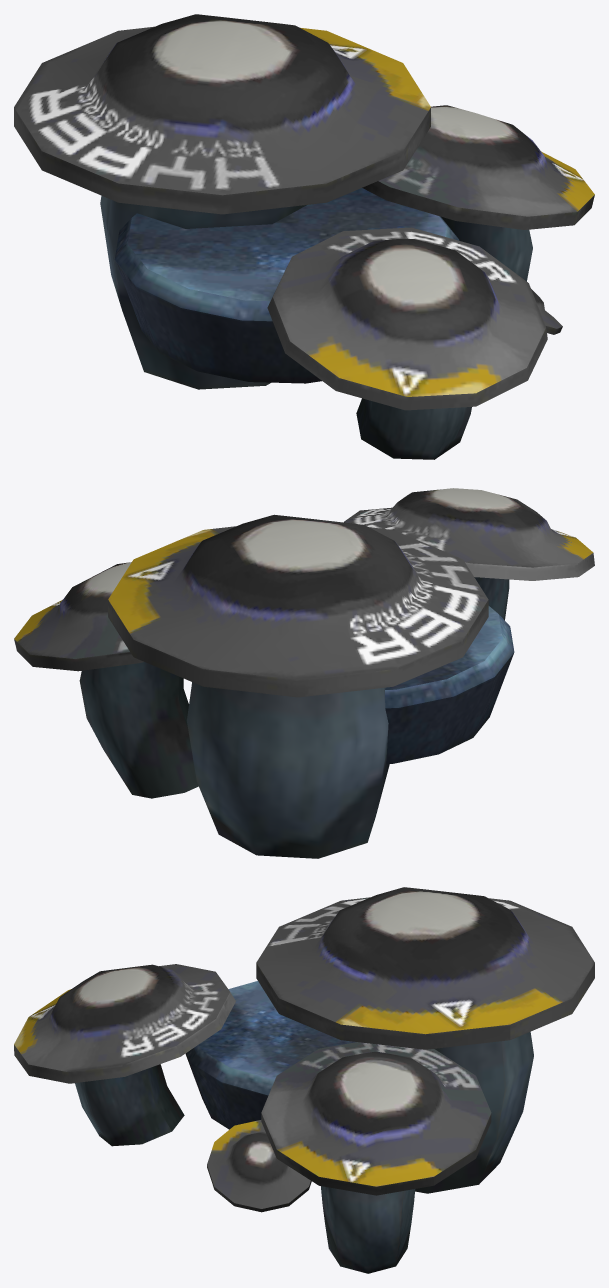
File: trap_130_tooltree.fbx
3 views of the same model, one above another, from view 1: azimuth 30°, elevation 25°; view 2: azimuth 150°, elevation 25°; view 3: azimuth 270°, elevation 25° (orthographic). The views are drawn at different scales.
Parts seen in each view (by area): view 1: trap_130_tooltree; view 2: trap_130_tooltree; view 3: trap_130_tooltree.
Boxes of the visible parts, <box> form: trap_130_tooltree: <box>14,14,594,459</box>; trap_130_tooltree: <box>14,488,594,858</box>; trap_130_tooltree: <box>14,887,594,1273</box>.
Size of the model in its own units: 1 by 0.654 by 1.24.
1 material, 1 textured.
